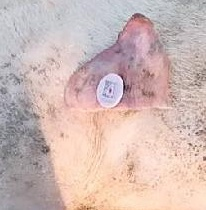text: (89, 66, 134, 112)
